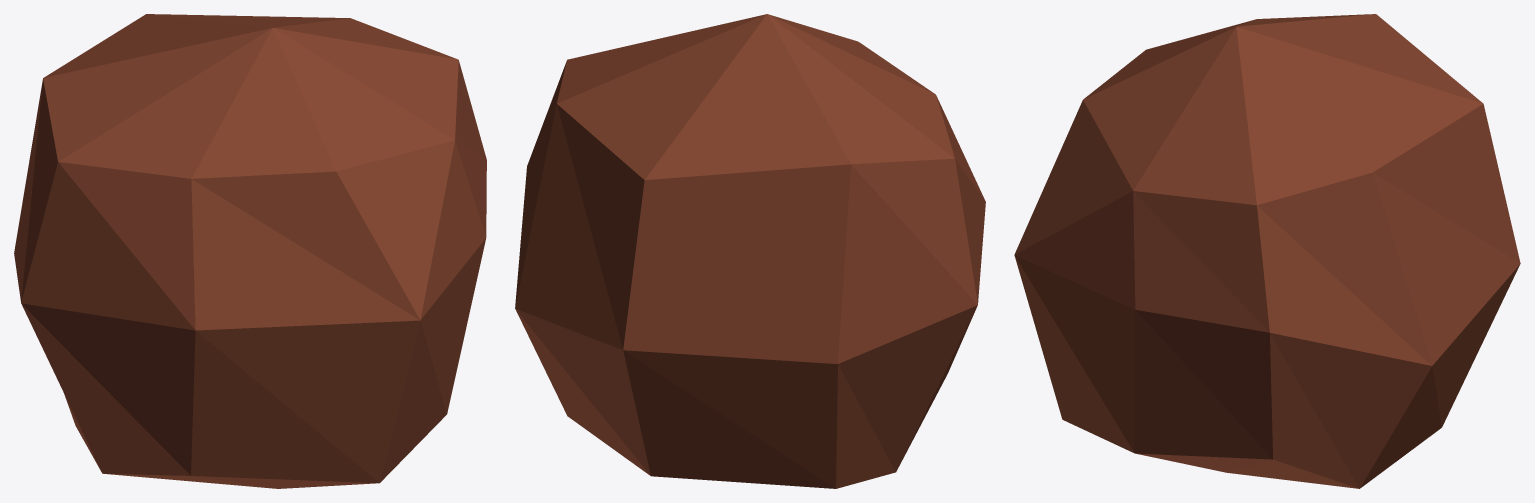
File: CA_Meteorite.FBX
The picture shows the model from 3 angles, left to right: view 1: azimuth 30°, elevation 25°; view 2: azimuth 150°, elevation 25°; view 3: azimuth 270°, elevation 25°; orthographic projection. The views are drawn at different scales.
Visible parts, largest first — view 1: Meteorite; view 2: Meteorite; view 3: Meteorite.
Boxes of the visible parts, x1=… form: Meteorite: x1=14, y1=14, x2=486, y2=488; Meteorite: x1=515, y1=14, x2=985, y2=488; Meteorite: x1=1014, y1=14, x2=1520, y2=488.
Size of the model in its own units: 68.42 by 66.05 by 64.2.
